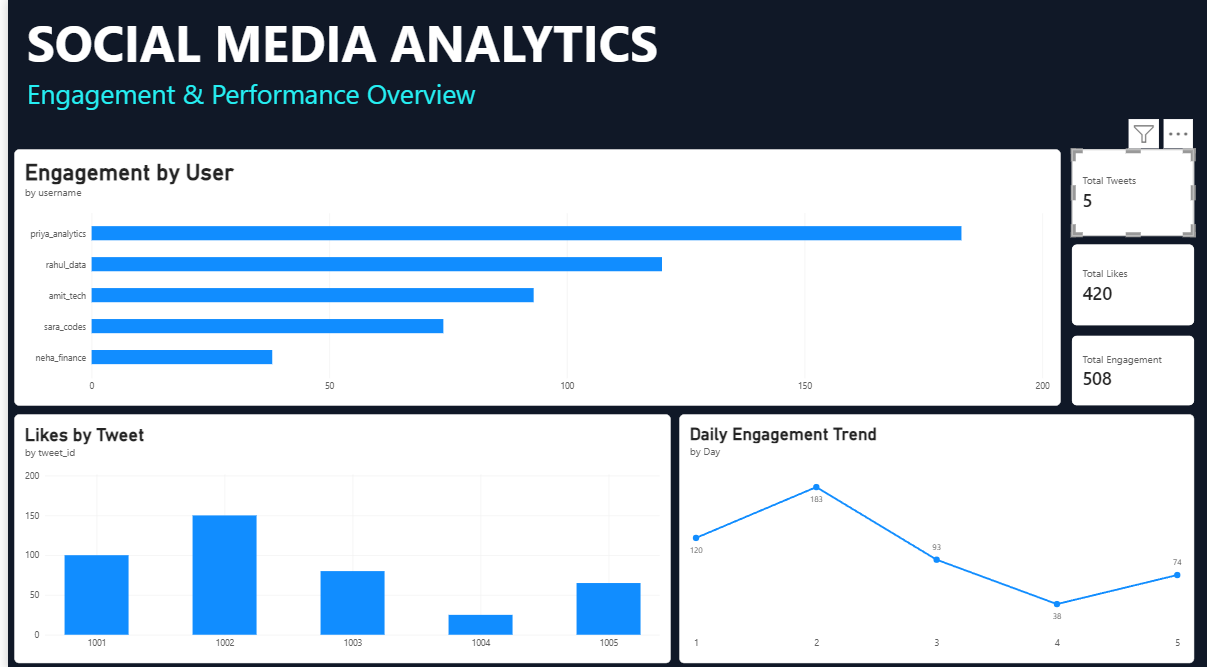

The page's visual inventory and layout, read from the dashboard file:
{"tool":"powerbi","page":{"name":"Page 1","canvas":[1920,1080],"ordinal":0},"visuals":[{"type":"cardVisual","fields":{"Data":["CountNonNull(social_media_engagement.tweet_id)"]},"box":[1702,242,196,138],"z":0},{"type":"cardVisual","fields":{"Data":["Sum(social_media_engagement.like_count)"]},"box":[1702,394,196,130],"z":1000},{"type":"cardVisual","fields":{"Data":["Sum(social_media_engagement.total_engagement)"]},"box":[1702,540,196,112],"z":2000},{"type":"clusteredBarChart","fields":{"Category":["social_media_engagement.username"],"Y":["Sum(social_media_engagement.total_engagement)"]},"box":[10,242,1674,410],"z":3000},{"type":"clusteredColumnChart","fields":{"Category":["social_media_engagement.tweet_id"],"Y":["Sum(social_media_engagement.like_count)"]},"box":[10,666,1050,398],"z":4000},{"type":"lineChart","fields":{"Category":["social_media_engagement.created_at.Variation.Date Hierarchy.Day"],"Y":["Sum(social_media_engagement.total_engagement)"]},"box":[1074,666,824,398],"z":5000},{"type":"textbox","box":[30,16,1090,202],"z":6000}]}

Visuals, with their boxes in screenshot pixels (x1, y1, x2, y2), scaled from the page's 1920x1080 canvas onto the 1207x667 screenshot:
cardVisual - CountNonNull(social_media_engagement.tweet_id): (x1=1070, y1=149, x2=1193, y2=235)
cardVisual - Sum(social_media_engagement.like_count): (x1=1070, y1=243, x2=1193, y2=324)
cardVisual - Sum(social_media_engagement.total_engagement): (x1=1070, y1=334, x2=1193, y2=403)
clusteredBarChart - social_media_engagement.username x Sum(social_media_engagement.total_engagement): (x1=6, y1=149, x2=1059, y2=403)
clusteredColumnChart - social_media_engagement.tweet_id x Sum(social_media_engagement.like_count): (x1=6, y1=411, x2=666, y2=657)
lineChart - social_media_engagement.created_at.Variation.Date Hierarchy.Day x Sum(social_media_engagement.total_engagement): (x1=675, y1=411, x2=1193, y2=657)
textbox: (x1=19, y1=10, x2=704, y2=135)
